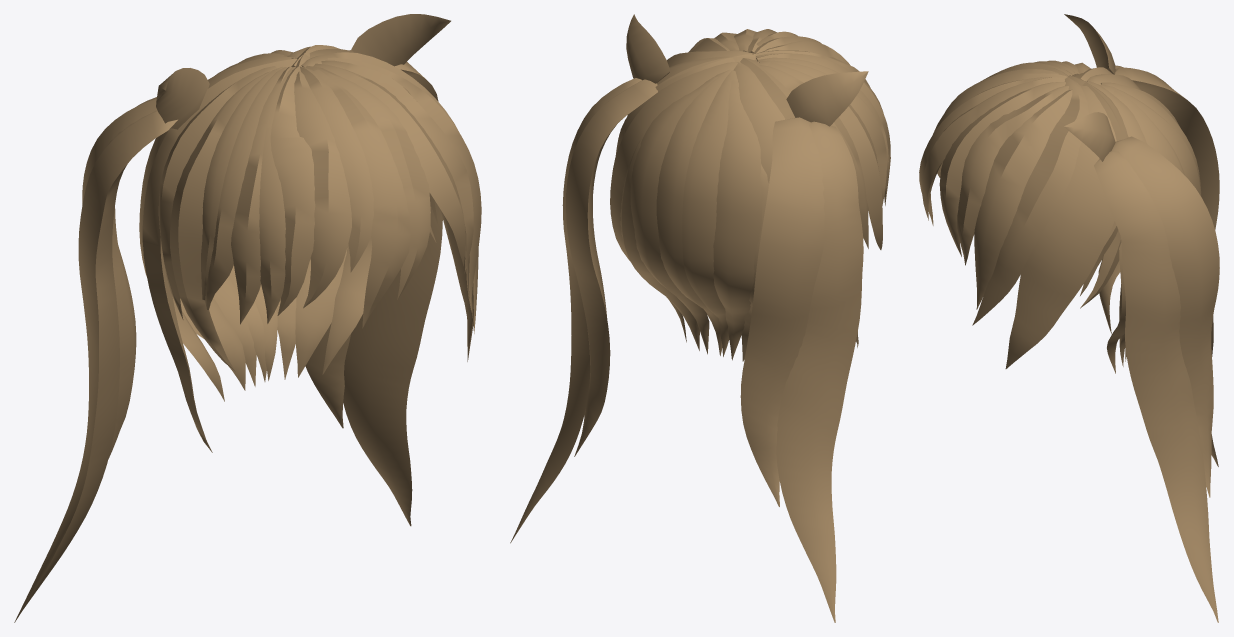
Rendered from hair1.glb.
3 views of the same model, side by side, from view 1: azimuth 30°, elevation 25°; view 2: azimuth 150°, elevation 25°; view 3: azimuth 270°, elevation 25° (orthographic). The views are drawn at different scales.
Visible parts, largest first — view 1: Object_2.002; view 2: Object_2.002; view 3: Object_2.002.
Part boxes in pixels (box(x1,y1,x2,y2)): Object_2.002: box(14, 14, 481, 622); Object_2.002: box(510, 14, 890, 622); Object_2.002: box(919, 14, 1219, 622).
Bounding box in the file's own units: 2.35 × 3.35 × 1.92.
